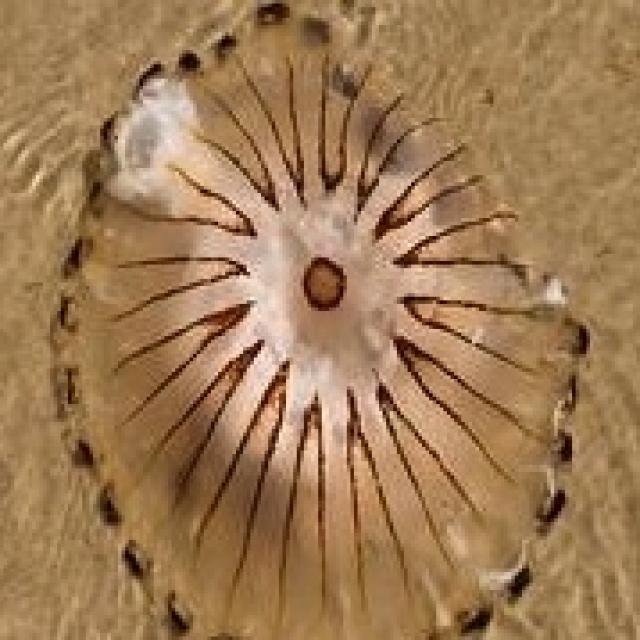Box-jellyfish: (42, 0, 593, 636)
